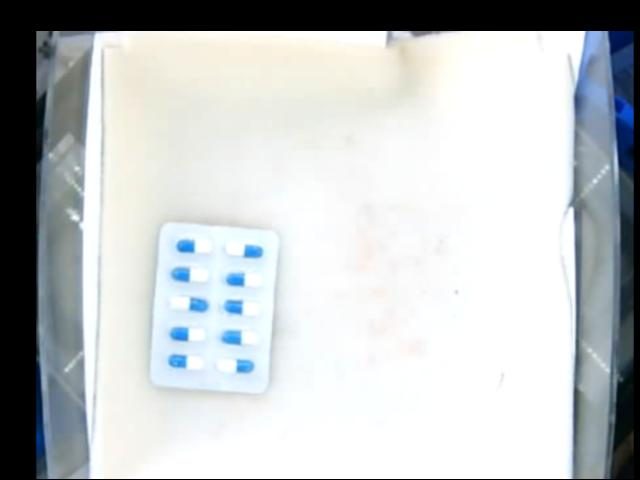Medicine: (149, 220, 277, 392)
